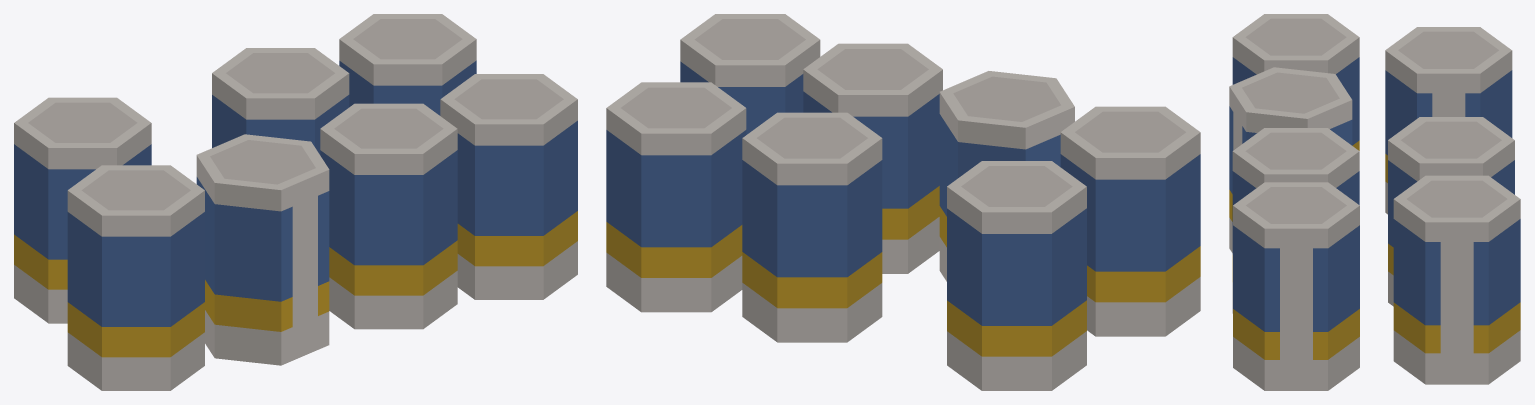
File: ShelfItem10.glb
3 renders of one model, left to right at view 1: azimuth 30°, elevation 25°; view 2: azimuth 150°, elevation 25°; view 3: azimuth 270°, elevation 25°, orthographic. The views are drawn at different scales.
Visible parts, largest first — view 1: SI_Prop_ShelfItem_10; view 2: SI_Prop_ShelfItem_10; view 3: SI_Prop_ShelfItem_10.
Part boxes in pixels (<box>): SI_Prop_ShelfItem_10: <box>14,14,577,390</box>; SI_Prop_ShelfItem_10: <box>606,14,1200,390</box>; SI_Prop_ShelfItem_10: <box>1229,14,1520,390</box>.
Bounding box in the file's own units: 0.011 × 0.00388 × 0.00631.
1 material, 1 textured.
